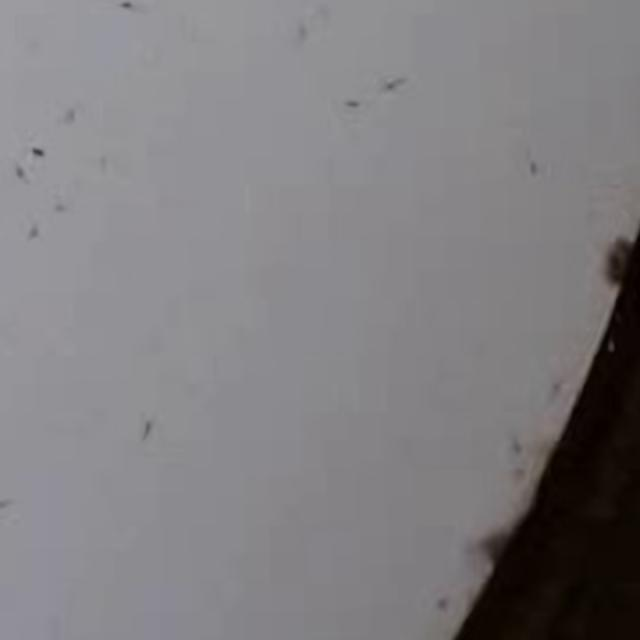shrimp-seed: (326, 67, 373, 136), (40, 88, 90, 134), (508, 138, 542, 190), (22, 203, 54, 253), (124, 406, 160, 449), (84, 0, 160, 19), (5, 150, 34, 196), (373, 64, 415, 95)
